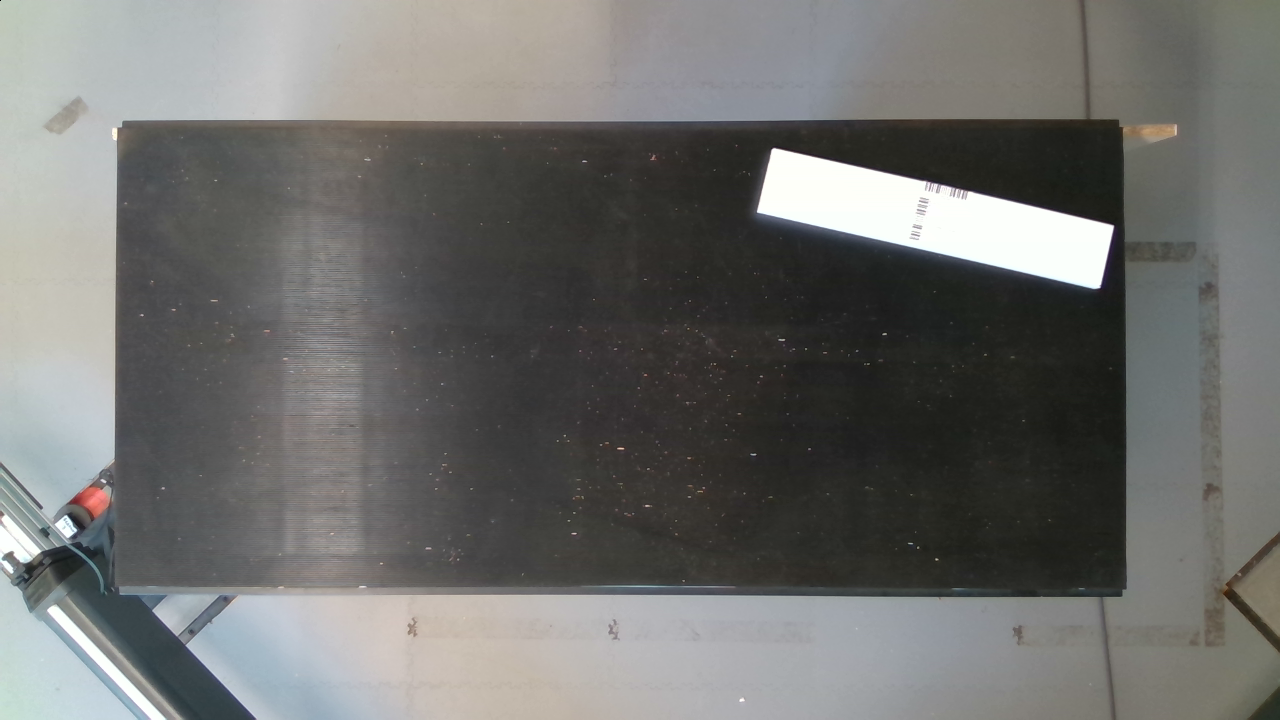barcode: (902, 170, 991, 255)
part1: (747, 133, 1120, 294)
